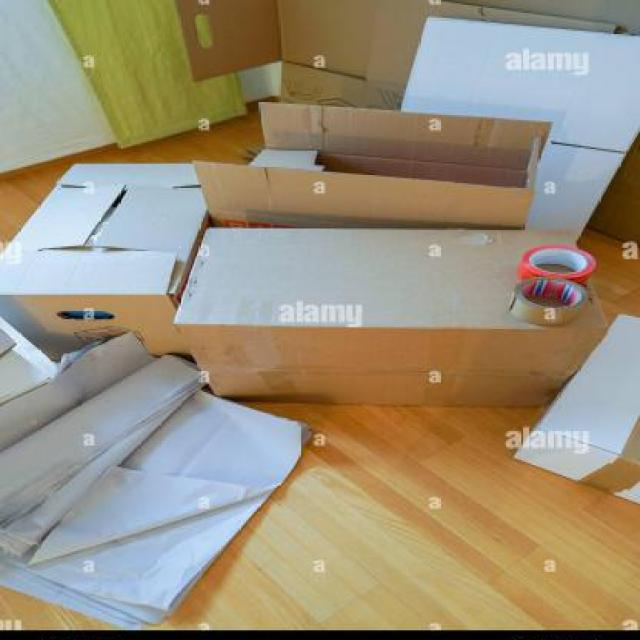box: (168, 221, 610, 438), (206, 91, 565, 228), (1, 149, 199, 361)
